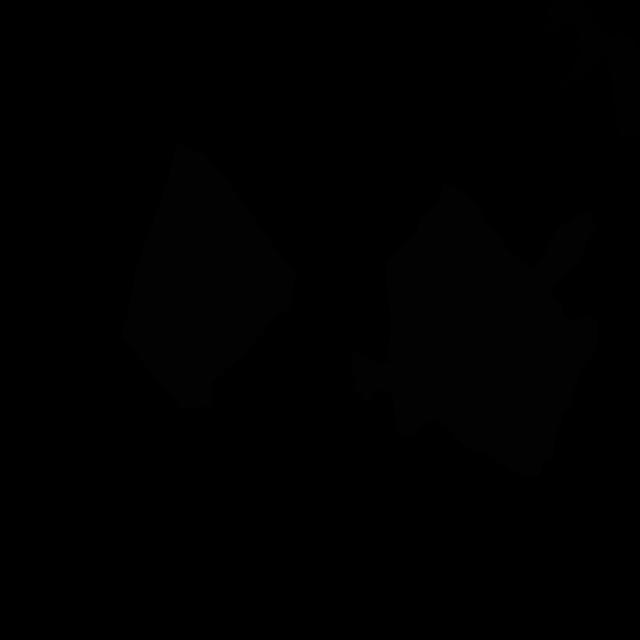cardboard: (120, 142, 296, 412), (351, 210, 597, 401), (393, 288, 597, 477), (386, 182, 531, 363)
rigid_plastic: (541, 0, 640, 144)
